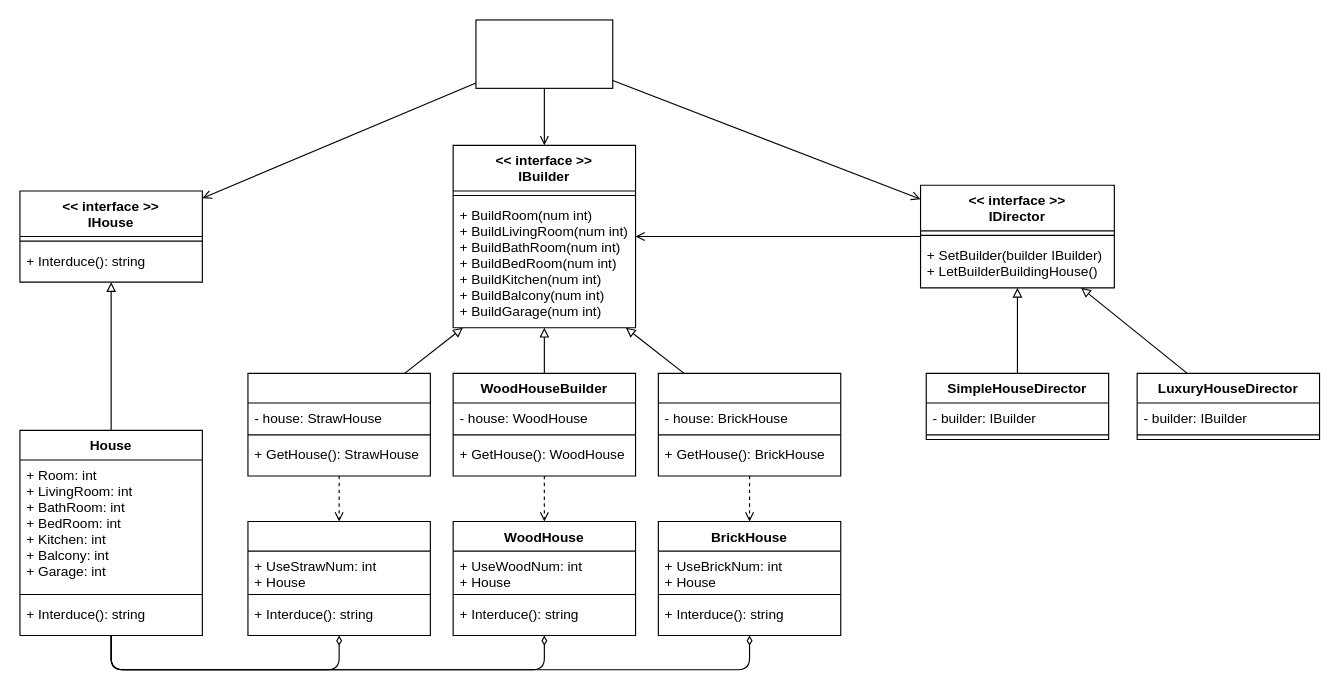
Image size: 1340x699. Some labels were removed from this diagram. The box of each missing label's shape, as (x1, y1, x2, y2) in pixels:
BrickHouseBuilder: (657, 372, 841, 476)
Client: (475, 19, 613, 88)
StrawHouse: (247, 520, 430, 636)
StrawHouseBuilder: (247, 372, 430, 476)
